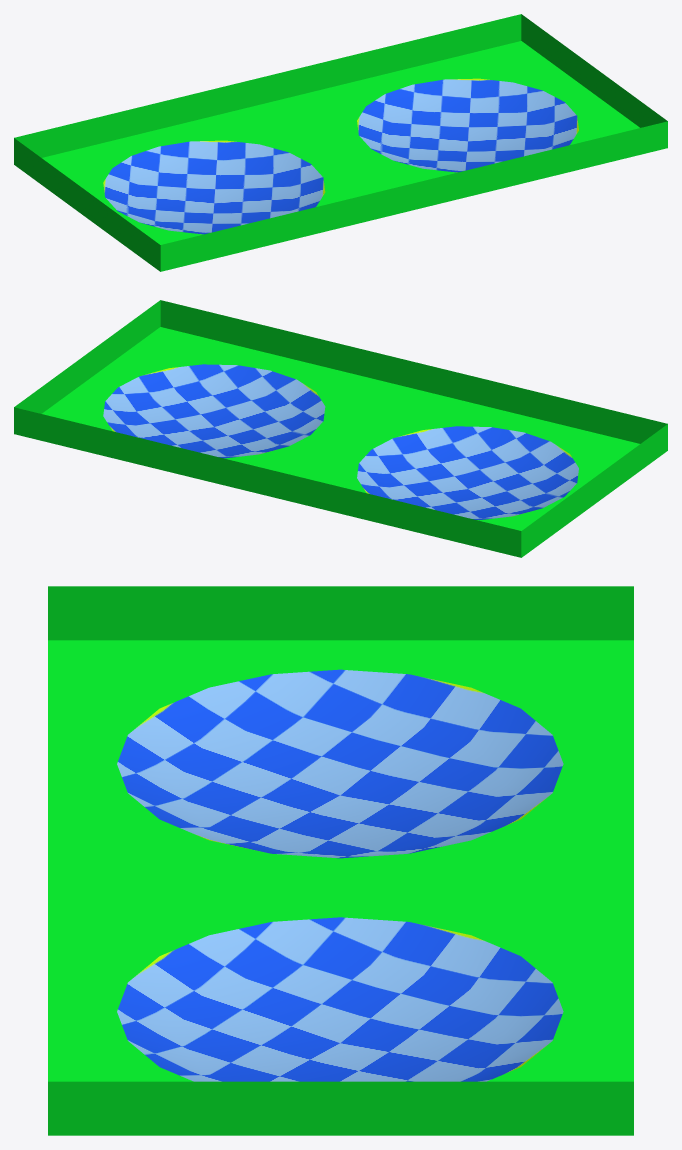
The model's file is LightCeiling01_12.FBX.
3 renders of one model, top to bottom at view 1: azimuth 30°, elevation 25°; view 2: azimuth 150°, elevation 25°; view 3: azimuth 270°, elevation 25°, orthographic. The views are drawn at different scales.
Parts seen in each view (by area): view 1: LightCeiling01_12; view 2: LightCeiling01_12; view 3: LightCeiling01_12.
Boxes of the visible parts, x1,y1,x2,y2 form: LightCeiling01_12: (14,14,667,271); LightCeiling01_12: (14,300,667,557); LightCeiling01_12: (48,586,633,1135).
Bounding box in the file's own units: 30 × 2.41 × 15.
